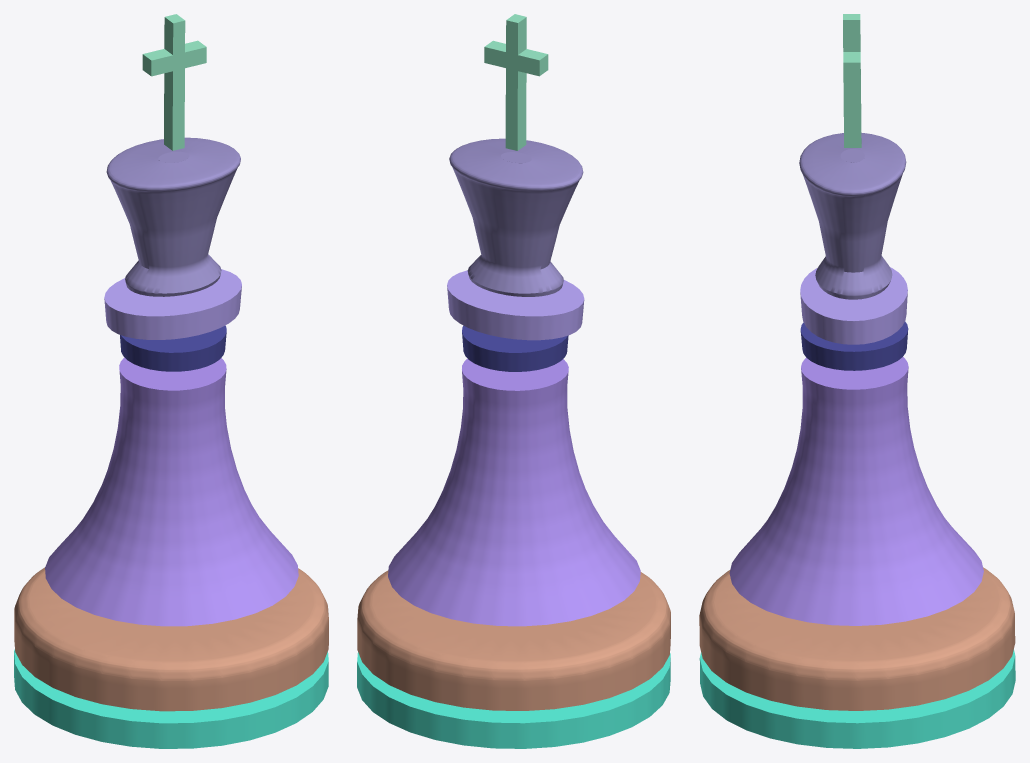
3 views of the same model, side by side, from view 1: azimuth 30°, elevation 25°; view 2: azimuth 150°, elevation 25°; view 3: azimuth 270°, elevation 25° (orthographic).
Visible parts, largest first — view 1: Object_8, Object_6, Object_14, Object_4, Object_12, Object_16, Object_10; view 2: Object_8, Object_6, Object_14, Object_4, Object_12, Object_16, Object_10; view 3: Object_8, Object_6, Object_14, Object_4, Object_12, Object_10, Object_16.
Part boxes in pixels (x1,y1,x2,y2): Object_8: [45, 357, 298, 626]; Object_6: [14, 567, 328, 711]; Object_14: [106, 137, 240, 296]; Object_4: [14, 649, 328, 748]; Object_12: [104, 269, 241, 339]; Object_16: [142, 14, 206, 150]; Object_10: [120, 325, 226, 371]; Object_8: [388, 358, 640, 626]; Object_6: [357, 570, 670, 710]; Object_14: [449, 138, 583, 296]; Object_4: [357, 652, 670, 748]; Object_12: [447, 270, 584, 340]; Object_16: [484, 14, 548, 150]; Object_10: [462, 325, 568, 371]; Object_8: [729, 357, 983, 625]; Object_6: [699, 567, 1015, 710]; Object_14: [799, 132, 906, 299]; Object_4: [699, 649, 1015, 748]; Object_12: [800, 267, 907, 344]; Object_10: [800, 321, 908, 370]; Object_16: [843, 14, 861, 147].
Bounding box in the file's own units: 0.4289 × 1 × 0.4297.
